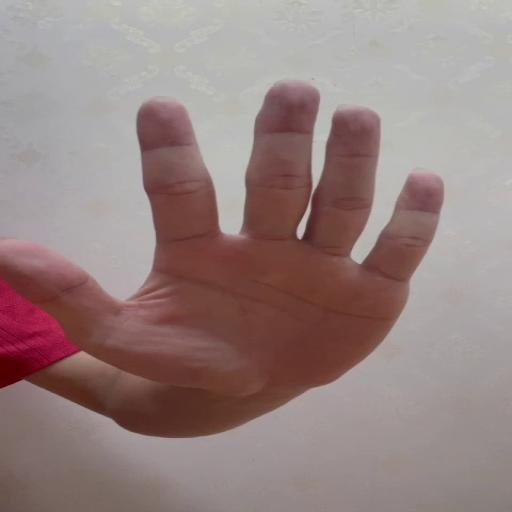open_palm: (2, 78, 446, 392)
